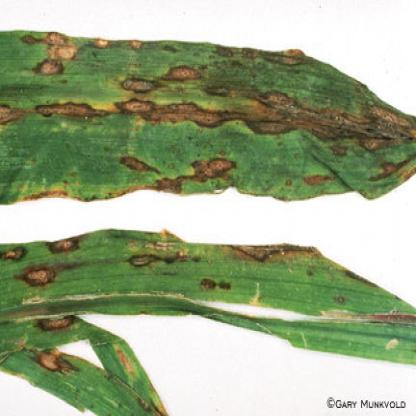corn leaf blight: (1, 27, 415, 209), (2, 229, 415, 356)
